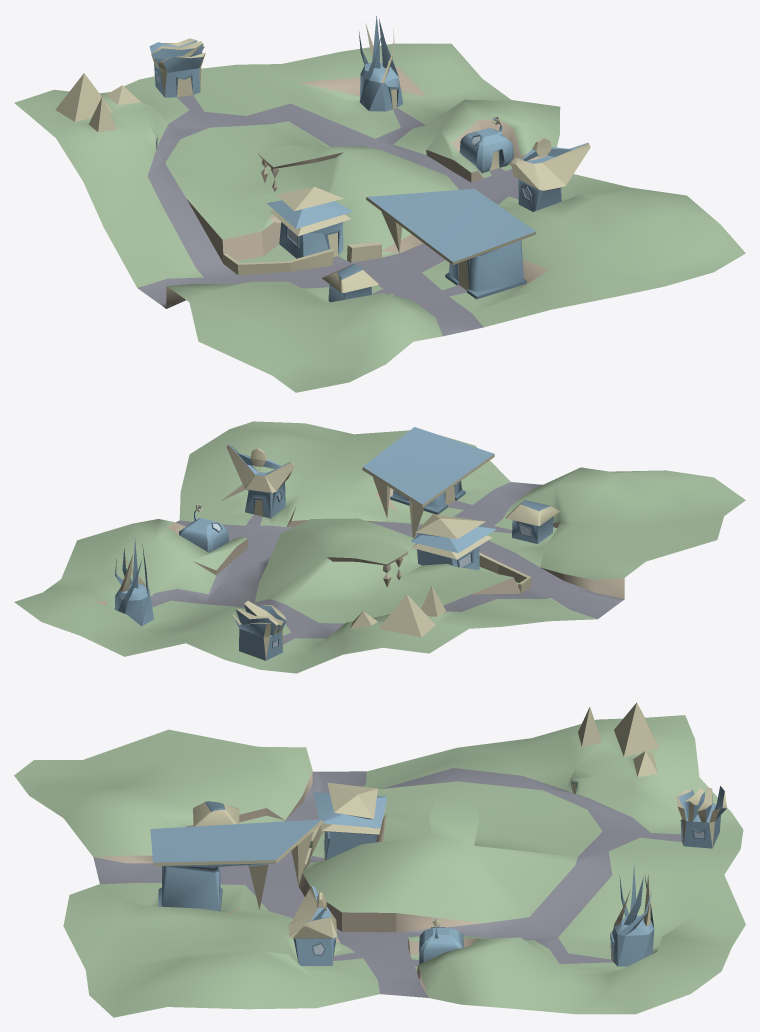
File: level_0.fbx
3 views of the same model, one above another, from view 1: azimuth 30°, elevation 25°; view 2: azimuth 150°, elevation 25°; view 3: azimuth 270°, elevation 25° (orthographic). The views are drawn at different scales.
Visible parts, largest first — view 1: ground; view 2: ground; view 3: ground.
Boxes of the visible parts, left/top/right/bottom form: ground: left=14, top=16, right=745, bottom=392; ground: left=14, top=421, right=745, bottom=673; ground: left=14, top=702, right=745, bottom=1017.
Size of the model in its own units: 60.64 by 11.32 by 69.57.
